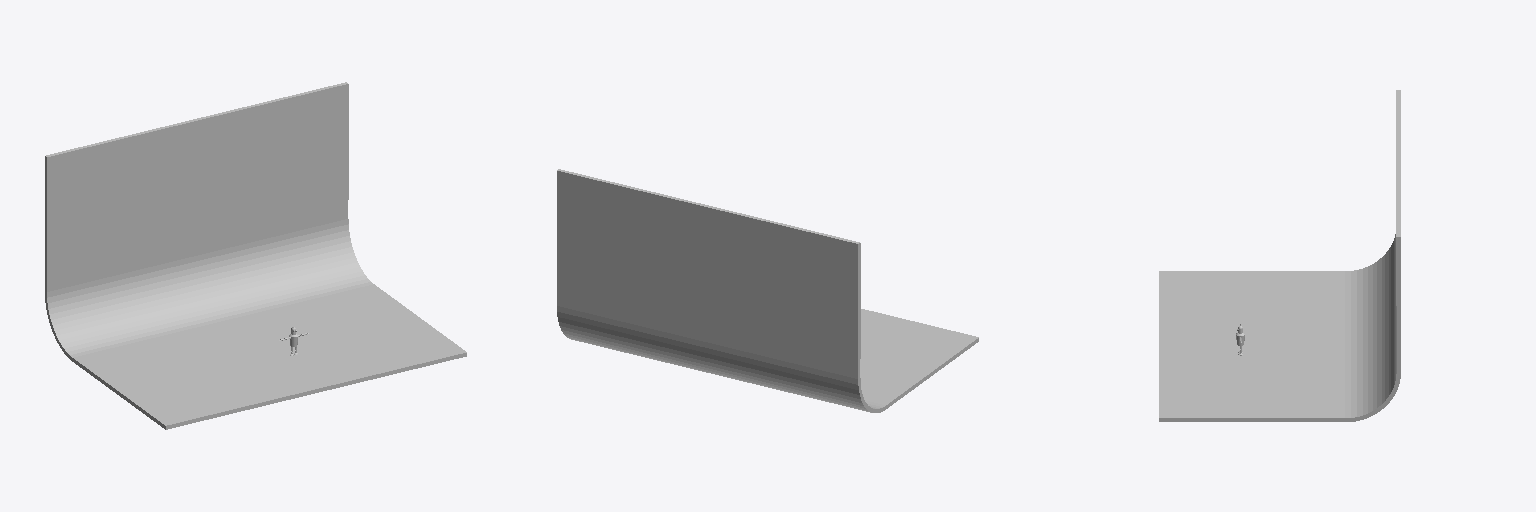
File: Bender.obj
3 views of the same model, side by side, from view 1: azimuth 30°, elevation 25°; view 2: azimuth 150°, elevation 25°; view 3: azimuth 270°, elevation 25° (orthographic).
Visible parts, largest first — view 1: Line01; view 2: Line01; view 3: Line01.
Part boxes in pixels (left/top/right/bottom): Line01: left=45, top=82, right=466, bottom=429; Line01: left=557, top=169, right=978, bottom=412; Line01: left=1159, top=90, right=1400, bottom=421.
Size of the model in its own units: 171 by 101 by 119.